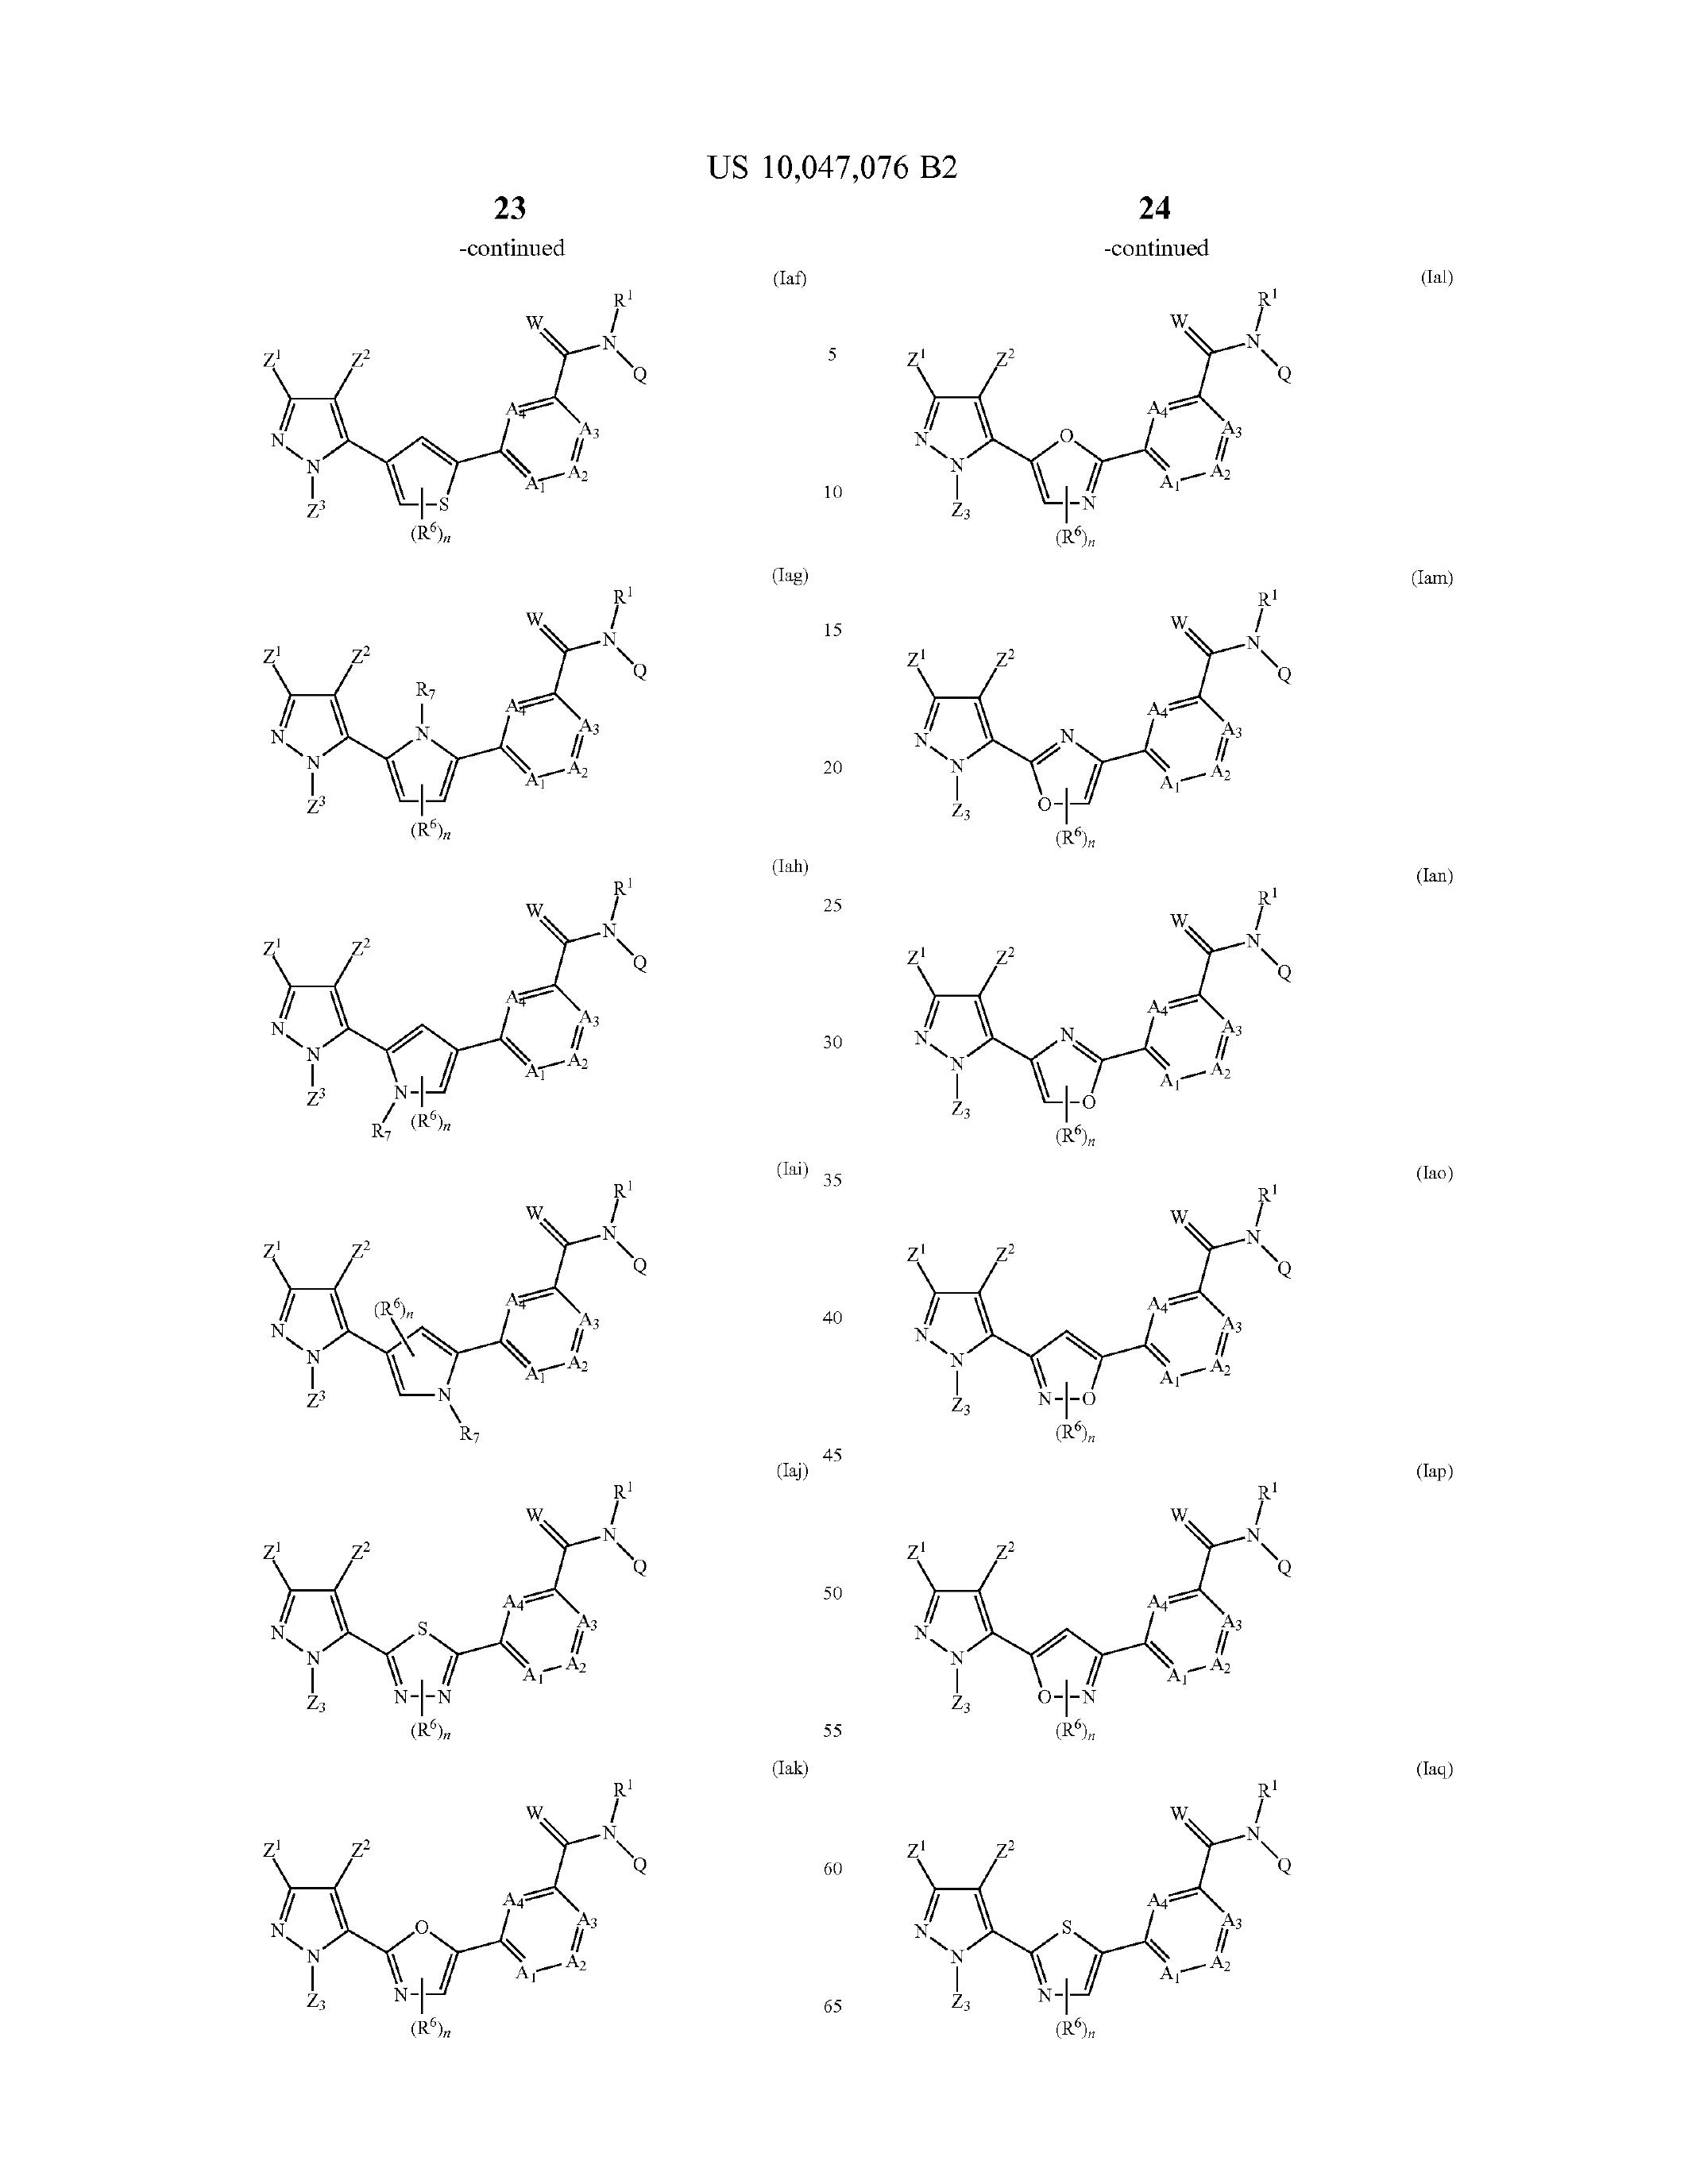relevant-structures: (887, 1743, 1355, 2113), (225, 862, 723, 1168), (860, 592, 1367, 877), (193, 248, 665, 555), (186, 1776, 736, 2039), (183, 605, 732, 858), (903, 885, 1374, 1172), (172, 1181, 729, 1418), (238, 1480, 684, 1764), (872, 1477, 1374, 1721), (903, 1186, 1346, 1452), (878, 277, 1312, 535)
